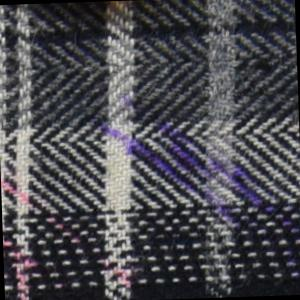Stain: (77, 84, 300, 277), (1, 169, 133, 300), (85, 1, 145, 32)
